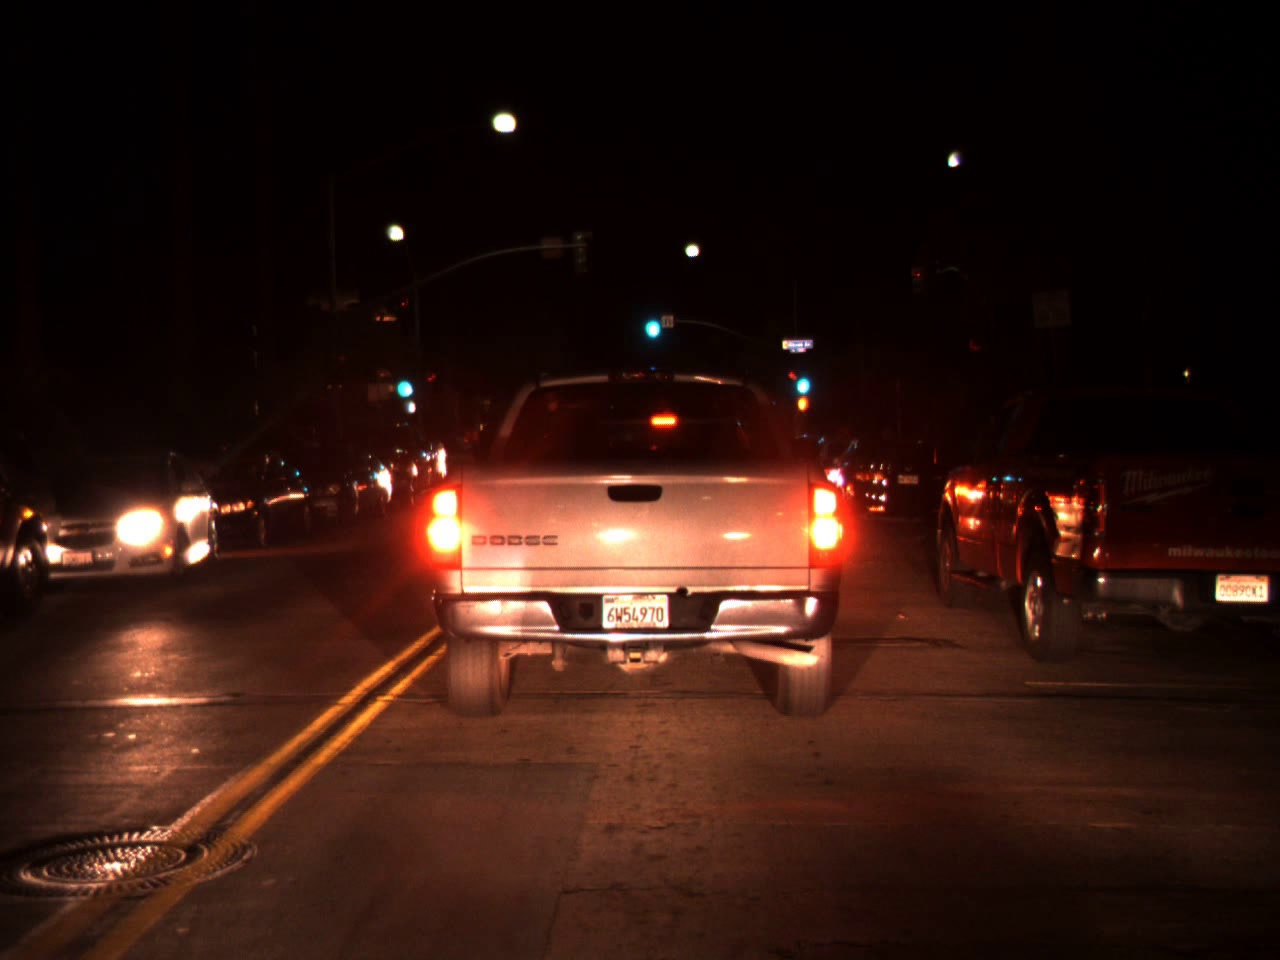go: (639, 301, 662, 343), (392, 361, 411, 403), (792, 359, 811, 398)
